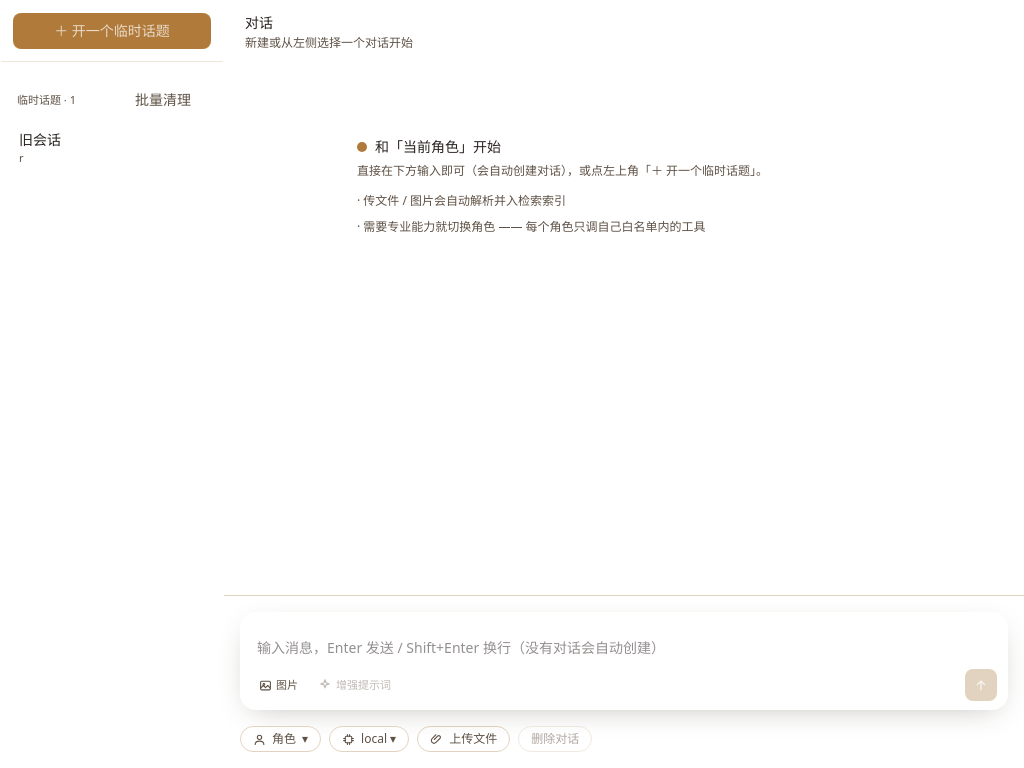
Test case: ChatPage 流式渲染 › 刷新后的会话（checkpoint 里 trimmed>0）同样显示提示
# 从侧栏点开历史会话
Step 1. Click the text "旧会话" → (40,140), box [19,130,61,149]
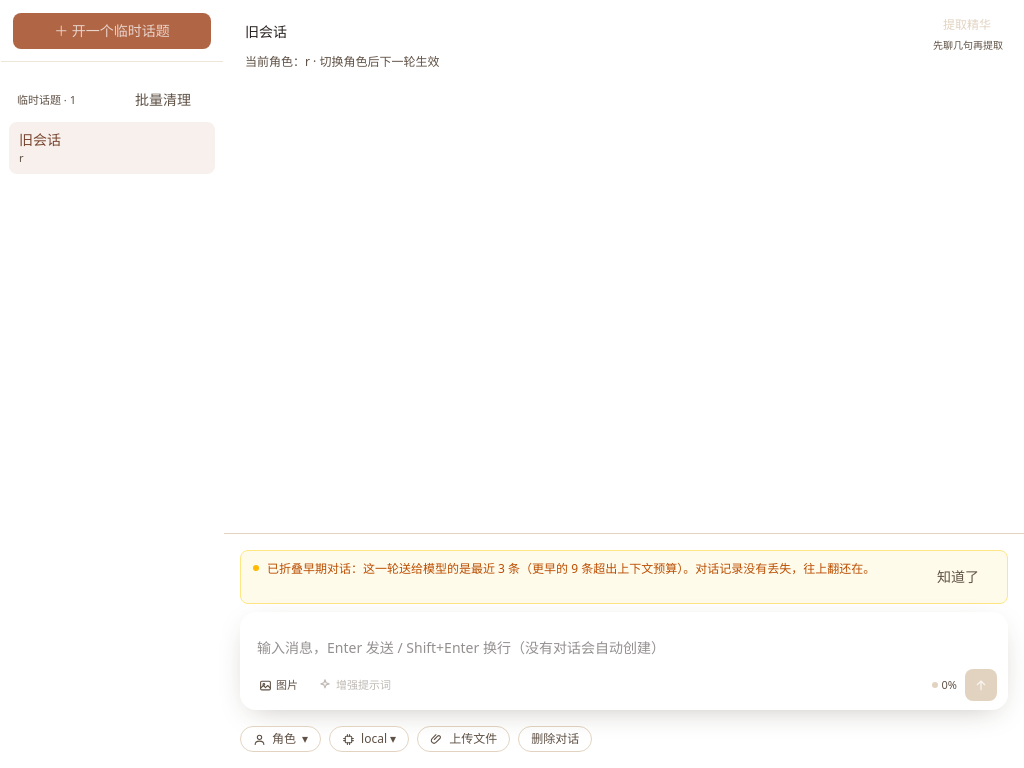
Expected: the text "已折叠早期对话：这一轮送给模型的是最近 3 条（更早的 9 条超出上下文预算）。对话记录没有丢失，往上翻还在。" is shown, [267,559,913,578]
